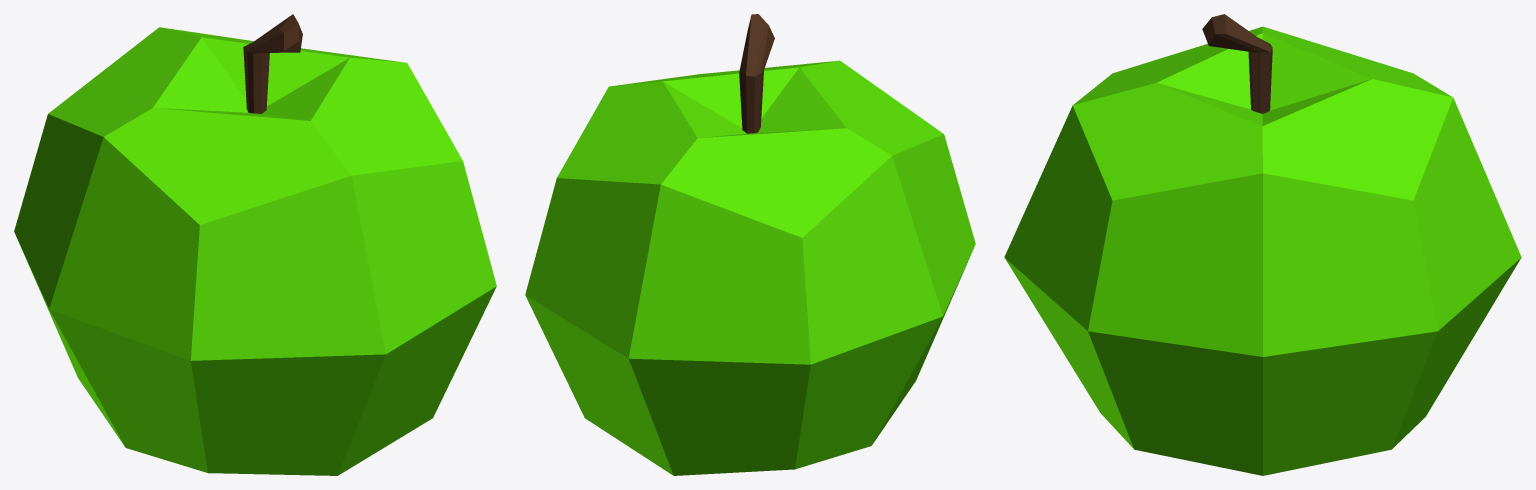
File: apple.gltf
The picture shows the model from 3 angles, left to right: view 1: azimuth 30°, elevation 25°; view 2: azimuth 150°, elevation 25°; view 3: azimuth 270°, elevation 25°; orthographic projection. The views are drawn at different scales.
Parts seen in each view (by area): view 1: Cube.002; view 2: Cube.002; view 3: Cube.002.
Boxes of the visible parts, x1,y1,x2,y2 form: Cube.002: (14, 14, 496, 475); Cube.002: (525, 14, 975, 475); Cube.002: (1004, 14, 1521, 475).
Bounding box in the file's own units: 3.14 × 3.19 × 3.44.
